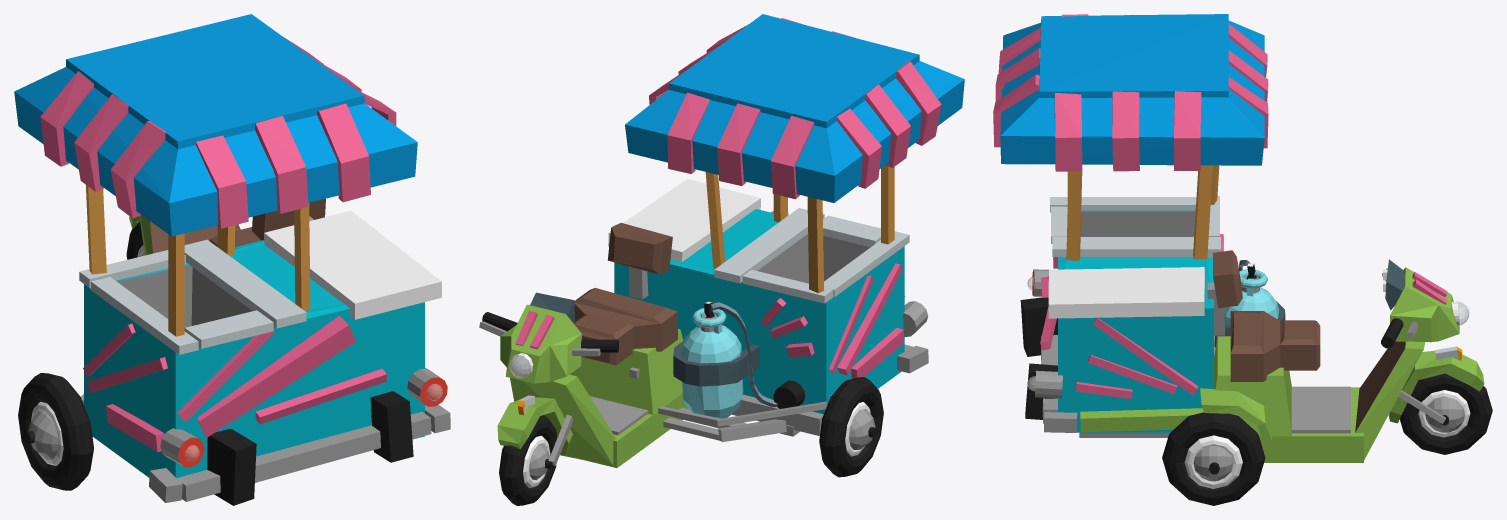
File: sanbengzi.glb
3 views of the same model, side by side, from view 1: azimuth 30°, elevation 25°; view 2: azimuth 150°, elevation 25°; view 3: azimuth 270°, elevation 25° (orthographic). The views are drawn at different scales.
Visible parts, largest first — view 1: mesh722820718_1, mesh620847934, mesh170467204, mesh2048164464_1, mesh1681273695, mesh1445051624, mesh1828721487, mesh620847934_1, mesh1742358140, mesh1576294771, mesh2118986946, mesh325230731 (+25 smaller); view 2: mesh722820718_1, mesh620847934, mesh1268663749, mesh1680523390, mesh170467204, mesh172438420, mesh784883372_1, mesh2048164464_1, mesh848789661, mesh1828721487, mesh604987152, mesh1824758900_1 (+30 smaller); view 3: mesh722820718_1, mesh620847934, mesh170467204, mesh1268663749, mesh1680523390, mesh741611477_1, mesh1824758900_1, mesh620847934_1, mesh113263190, mesh848789661, mesh1828721487, mesh728447653 (+31 smaller).
Part boxes in pixels (x1,y1,x2,y2): mesh722820718_1: [14, 14, 417, 236]; mesh620847934: [84, 240, 424, 477]; mesh170467204: [264, 210, 441, 319]; mesh2048164464_1: [18, 373, 93, 490]; mesh1681273695: [196, 315, 356, 437]; mesh1445051624: [176, 411, 431, 501]; mesh1828721487: [184, 239, 306, 328]; mesh620847934_1: [117, 265, 252, 327]; mesh1742358140: [317, 103, 370, 202]; mesh1576294771: [255, 115, 308, 213]; mesh2118986946: [207, 428, 256, 505]; mesh325230731: [196, 135, 248, 228]; mesh722820718_1: [625, 14, 964, 202]; mesh620847934: [614, 209, 904, 414]; mesh1268663749: [560, 329, 688, 467]; mesh1680523390: [574, 288, 677, 365]; mesh170467204: [608, 179, 760, 261]; mesh172438420: [681, 308, 743, 418]; mesh784883372_1: [510, 374, 615, 465]; mesh2048164464_1: [819, 377, 883, 477]; mesh848789661: [500, 304, 581, 383]; mesh1828721487: [714, 208, 824, 283]; mesh604987152: [607, 223, 672, 274]; mesh1824758900_1: [499, 415, 557, 505]; mesh722820718_1: [1000, 14, 1264, 165]; mesh620847934: [1058, 210, 1213, 432]; mesh170467204: [1048, 267, 1204, 318]; mesh1268663749: [1214, 336, 1363, 462]; mesh1680523390: [1230, 311, 1320, 381]; mesh741611477_1: [1162, 412, 1265, 505]; mesh1824758900_1: [1399, 373, 1492, 454]; mesh620847934_1: [1080, 211, 1195, 236]; mesh113263190: [1291, 386, 1350, 433]; mesh848789661: [1390, 267, 1459, 342]; mesh1828721487: [1052, 237, 1220, 256]; mesh728447653: [1080, 408, 1203, 432].
Bounding box in the file's own units: 3.49 × 3.68 × 4.6.
